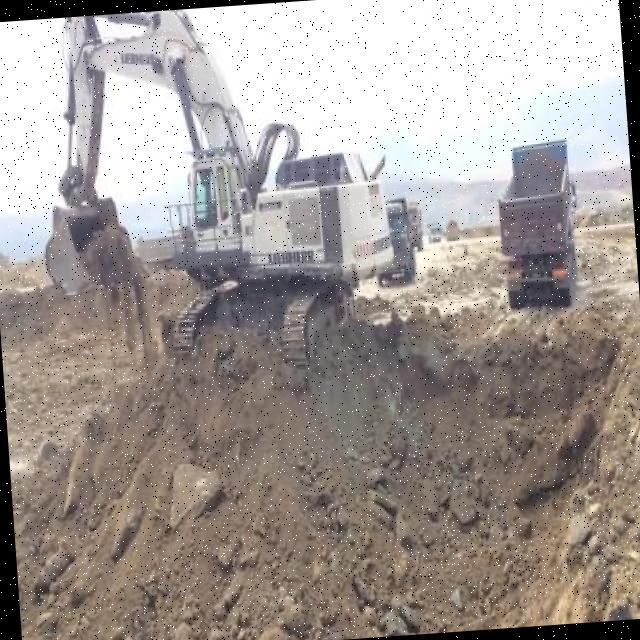Dump Truck: (492, 136, 582, 316), (132, 224, 192, 272), (382, 202, 416, 282)
Excavator: (24, 0, 402, 396)
